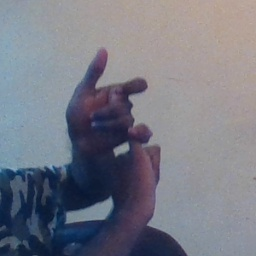S: (60, 43, 174, 215)
